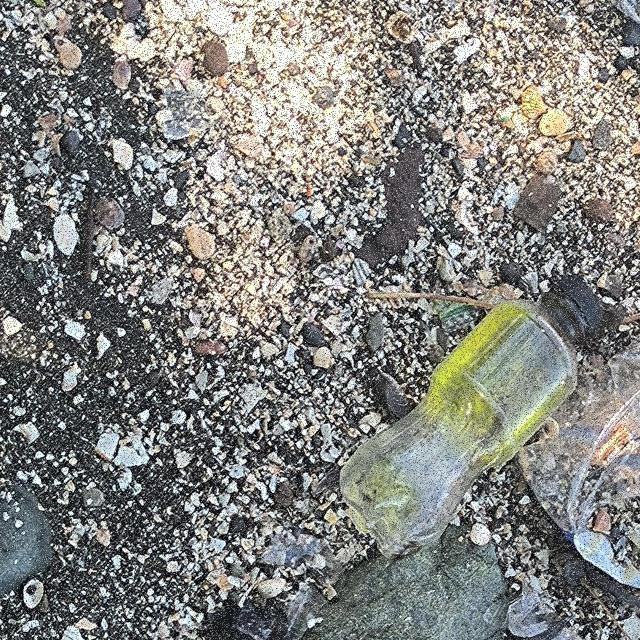plastic_waste: (338, 273, 604, 565)
